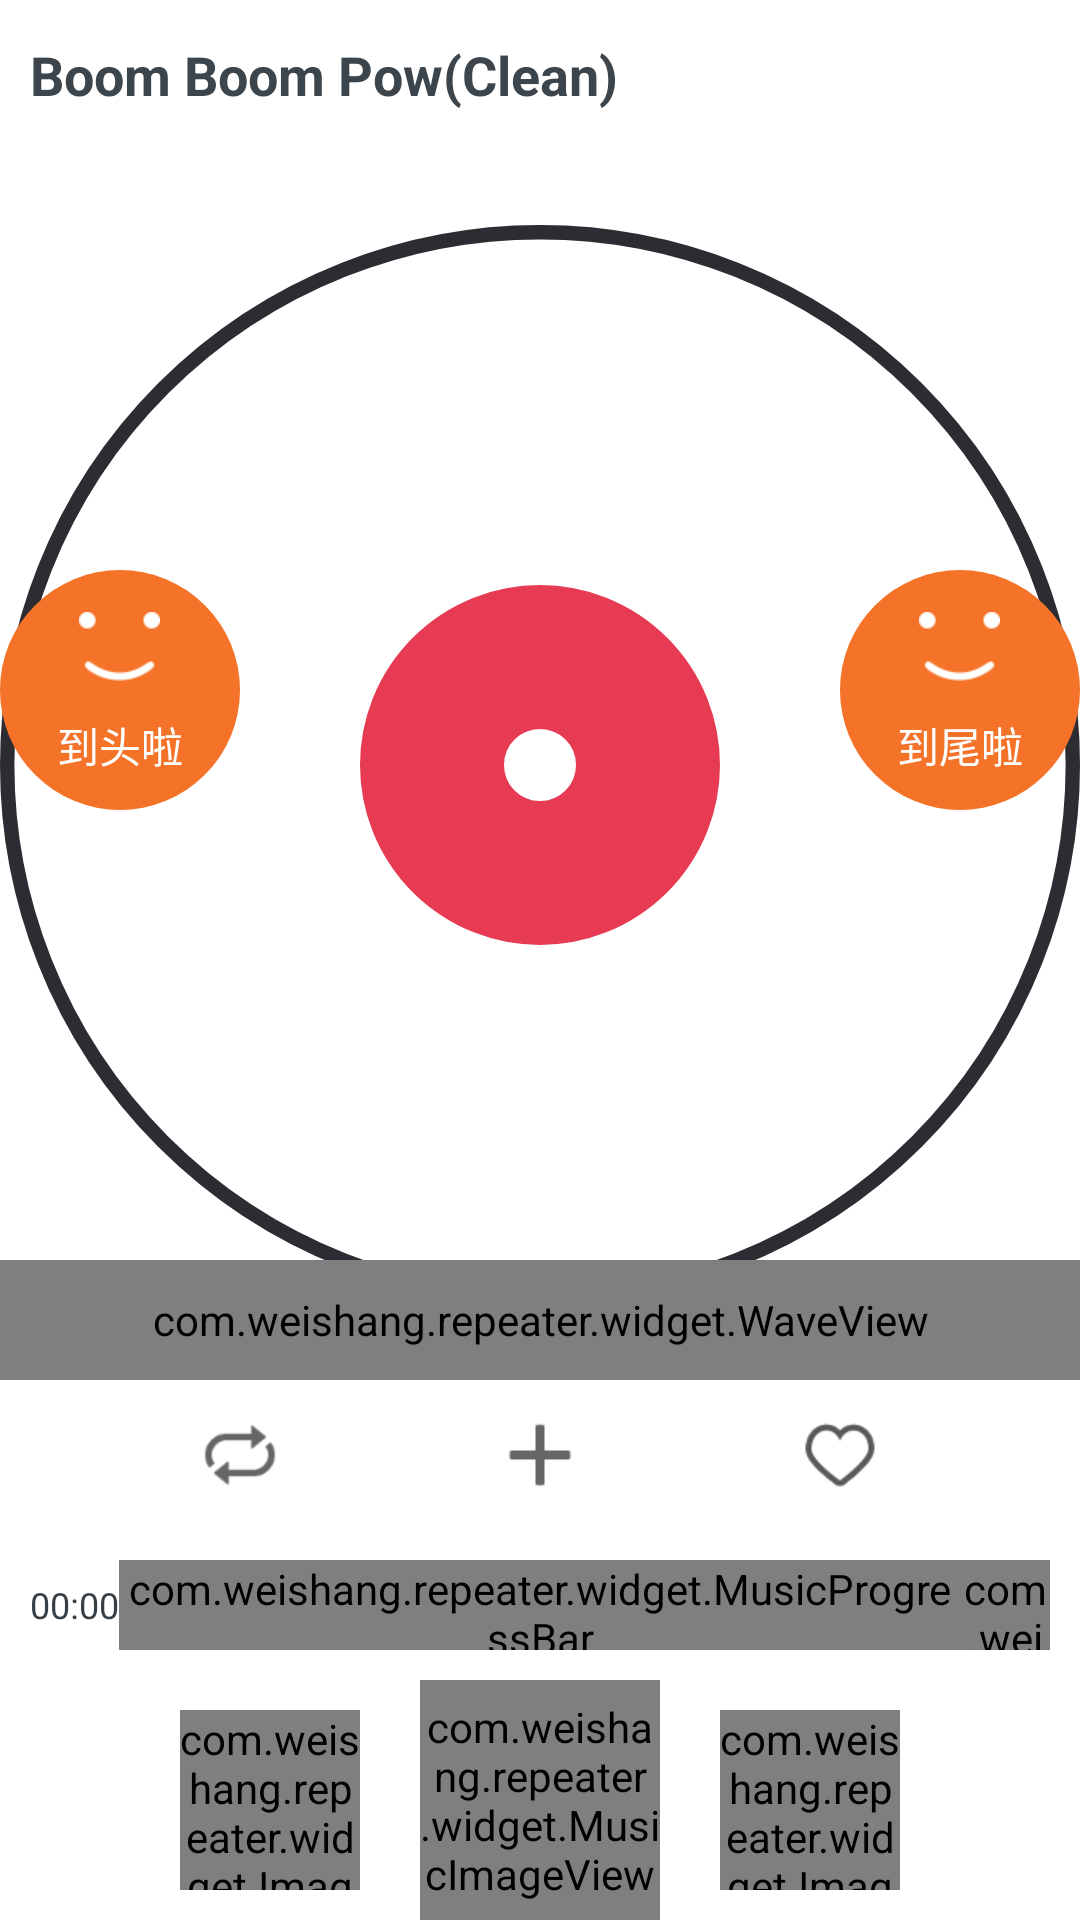

Icon click points for this 1080x1920 phone screenshot, format (x=x, y=y):
favorite: (x=840, y=1455)
repeat level: (x=240, y=1455)
